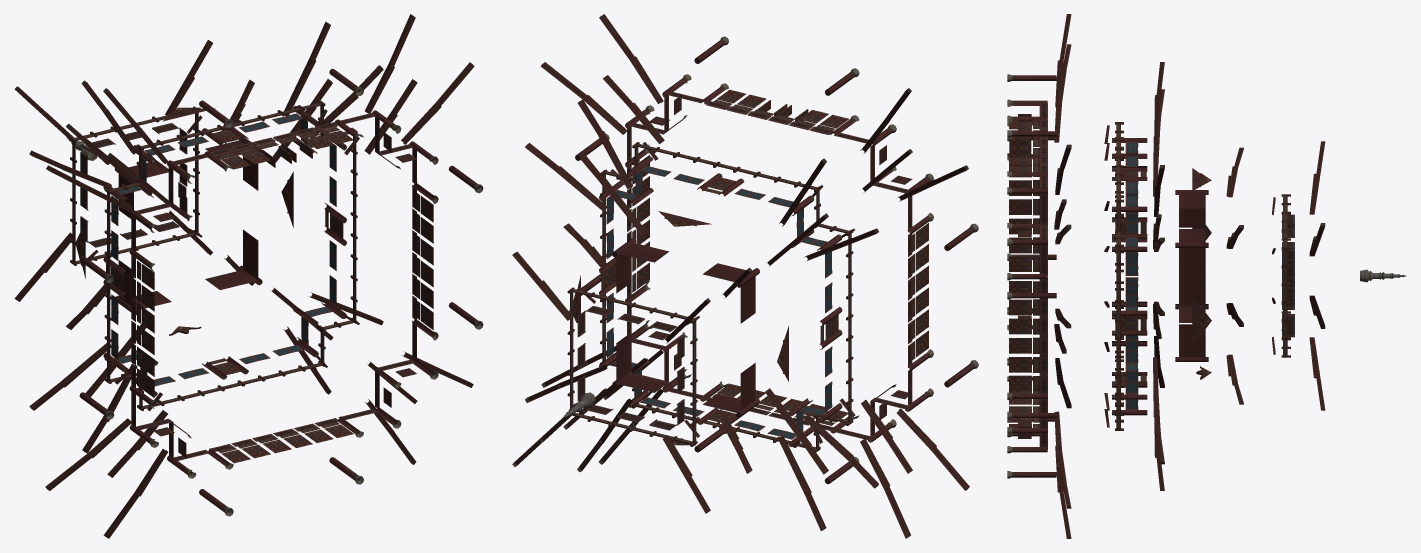
Rendered from pei_jian.fbx.
3 renders of one model, left to right at view 1: azimuth 30°, elevation 25°; view 2: azimuth 150°, elevation 25°; view 3: azimuth 270°, elevation 25°, orthographic. The views are drawn at different scales.
Parts seen in each view (by area): view 1: pei_jian; view 2: pei_jian; view 3: pei_jian.
Boxes of the visible parts, left/top/right/bottom form: pei_jian: left=14, top=14, right=483, bottom=538; pei_jian: left=512, top=14, right=978, bottom=538; pei_jian: left=1007, top=14, right=1406, bottom=538.
Size of the model in its own units: 1724 by 1735 by 1592.
1 material, 1 textured.
